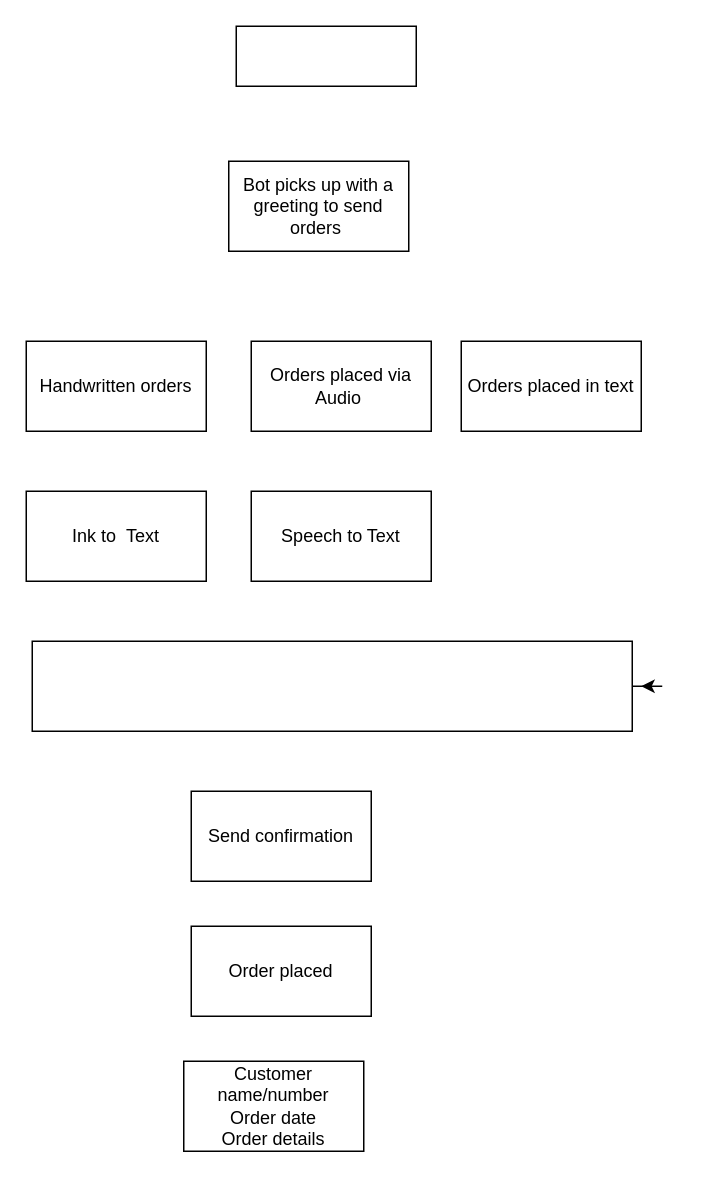
This 701x1178 diagram has some shape labels left out. The centre of each missing label's shape, as x and y in pixels:
Customer initiates conversation: (x=325, y=55)
Extract order info: item, quantity, metrics, brand: (x=331, y=685)
